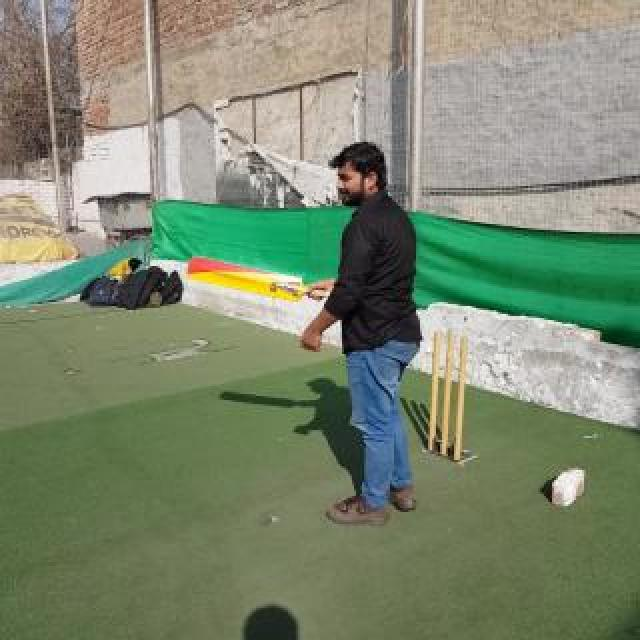bat: (187, 255, 305, 303)
